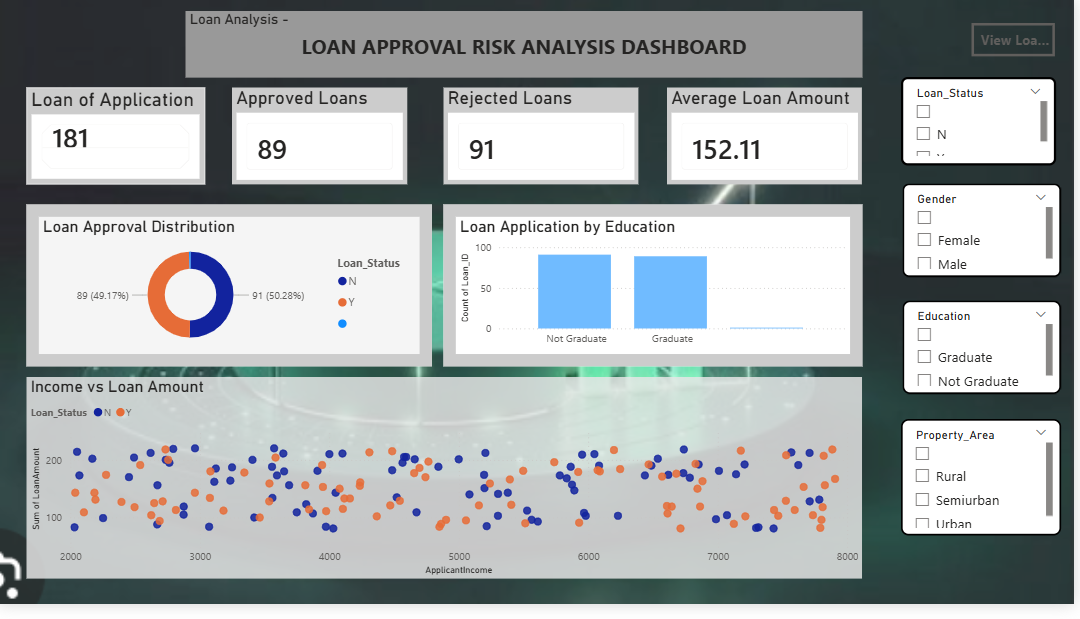

The dashboard page shown, as its layout file describes it:
{"tool":"powerbi","page":{"name":"Page 1","canvas":[1280,720],"ordinal":0},"visuals":[{"type":"cardVisual","title":"Loan of Application","fields":{"Data":["CountNonNull(clean_loan_data.Loan_ID)"]},"box":[33.8,105.2,212.5,115.2],"z":0},{"type":"cardVisual","title":"Approved Loans","fields":{"Data":["CountNonNull(clean_loan_data.Loan_ID)"]},"box":[278,105.2,208.5,115.2],"z":1000},{"type":"cardVisual","title":"Rejected Loans","fields":{"Data":["CountNonNull(clean_loan_data.Loan_ID)"]},"box":[530.1,105.2,232.3,115.2],"z":2000},{"type":"cardVisual","title":"Average Loan Amount","fields":{"Data":["Avg(clean_loan_data.LoanAmount)"]},"box":[796.2,105.2,232.3,115.2],"z":3000},{"type":"donutChart","title":"Loan Approval Distribution","fields":{"Category":["clean_loan_data.Loan_Status"],"Y":["CountNonNull(clean_loan_data.Loan_ID)"]},"box":[33.8,244.2,482.5,192.6],"z":4000},{"type":"clusteredColumnChart","title":"Loan Application by Education","fields":{"Category":["clean_loan_data.Education"],"Y":["CountNonNull(clean_loan_data.Loan_ID)"]},"box":[530.1,244.2,498.4,192.6],"z":5000},{"type":"scatterChart","title":"Income vs Loan Amount","fields":{"X":["clean_loan_data.ApplicantIncome"],"Y":["Sum(clean_loan_data.LoanAmount)"],"Series":["clean_loan_data.Loan_Status"]},"box":[33.8,450.7,994.7,240.2],"z":6000},{"type":"slicer","fields":{"Values":["clean_loan_data.Loan_Status"]},"box":[1074.2,93.3,184.7,105.2],"z":7000},{"type":"slicer","fields":{"Values":["clean_loan_data.Gender"]},"box":[1076.2,220.4,188.6,111.2],"z":8000},{"type":"slicer","fields":{"Values":["clean_loan_data.Education"]},"box":[1076.2,359.4,188.6,111.2],"z":9000},{"type":"slicer","fields":{"Values":["clean_loan_data.Property_Area"]},"box":[1074.2,500.4,190.6,139],"z":10000},{"type":"actionButton","box":[1159.5,27.8,99.3,39.7],"z":11000},{"type":"textbox","box":[222.4,13.9,806.1,79.4],"z":12000}]}

Visuals, with their boxes in screenshot pixels (x1, y1, x2, y2), scaled from the page's 1280x720 canvas onto the 1080x619 screenshot:
"Loan of Application" cardVisual: 29, 90, 208, 189
"Approved Loans" cardVisual: 235, 90, 410, 189
"Rejected Loans" cardVisual: 447, 90, 643, 189
"Average Loan Amount" cardVisual: 672, 90, 868, 189
"Loan Approval Distribution" donutChart: 29, 210, 436, 376
"Loan Application by Education" clusteredColumnChart: 447, 210, 868, 376
"Income vs Loan Amount" scatterChart: 29, 387, 868, 594
slicer - clean_loan_data.Loan_Status: 906, 80, 1062, 171
slicer - clean_loan_data.Gender: 908, 189, 1067, 285
slicer - clean_loan_data.Education: 908, 309, 1067, 405
slicer - clean_loan_data.Property_Area: 906, 430, 1067, 550
actionButton: 978, 24, 1062, 58
textbox: 188, 12, 868, 80
